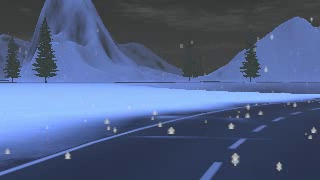Lane: (0, 98, 319, 179)
